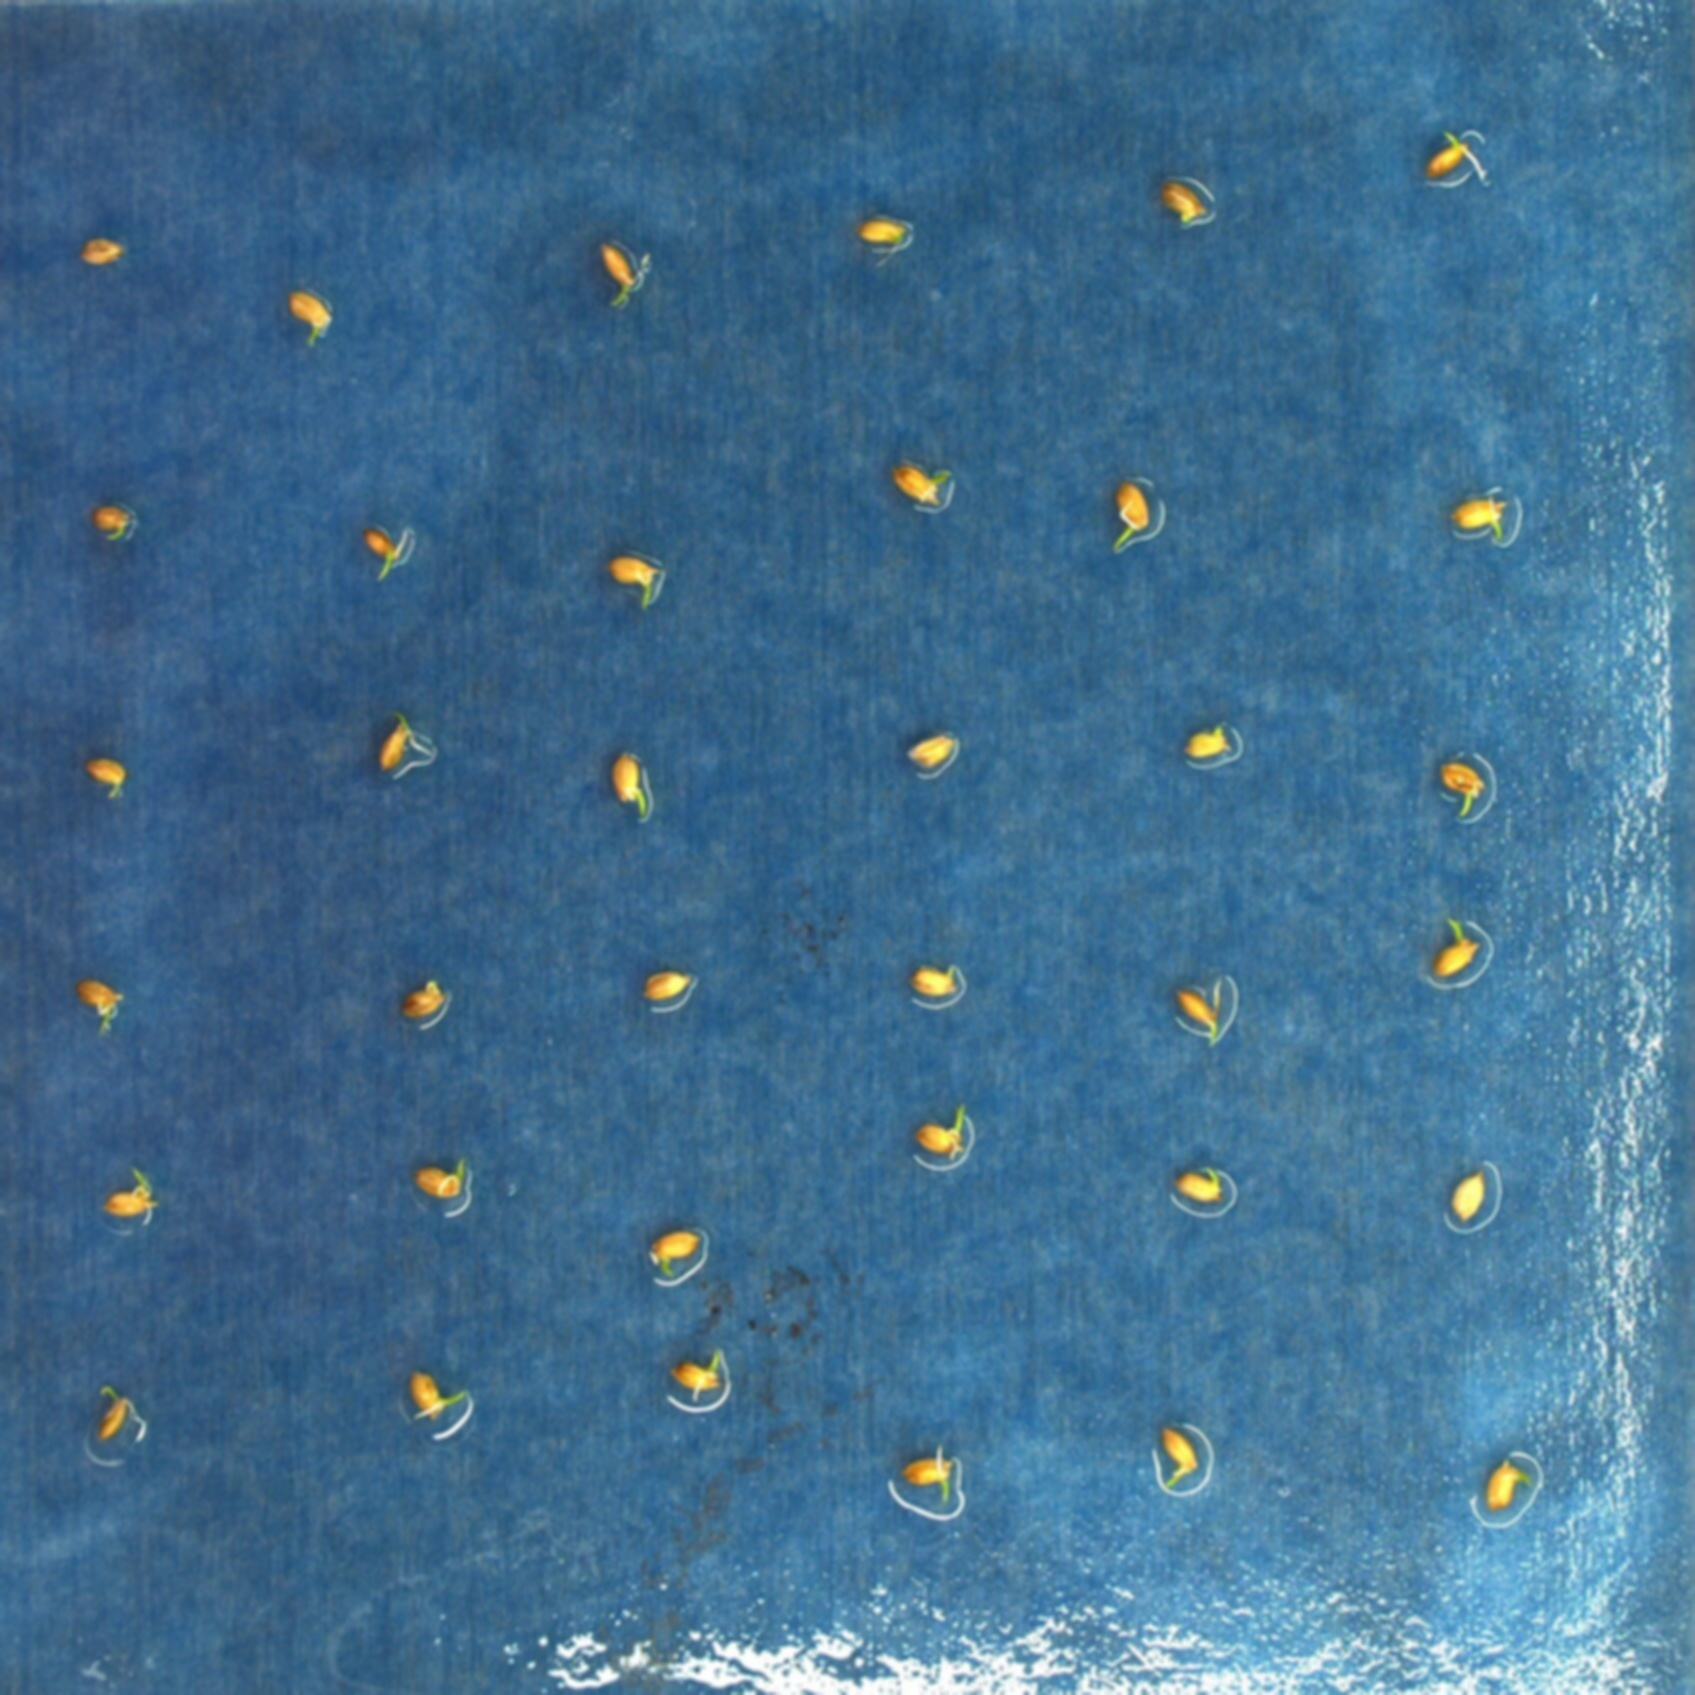not sprout: (598, 241, 646, 312), (888, 459, 953, 511), (73, 976, 126, 1035), (286, 289, 335, 349), (647, 1228, 702, 1276), (1156, 179, 1211, 224), (1172, 1166, 1225, 1205), (82, 754, 129, 798), (1180, 723, 1234, 761), (399, 979, 447, 1020), (1448, 1167, 1482, 1223), (908, 962, 958, 1000), (855, 216, 910, 248), (903, 734, 955, 768), (78, 236, 127, 267), (641, 972, 692, 1001)
sprout: (900, 1430, 955, 1506), (404, 1364, 469, 1426), (1426, 914, 1482, 984), (1173, 979, 1228, 1046), (99, 1163, 163, 1218), (669, 1344, 725, 1403), (914, 1104, 972, 1159), (605, 556, 664, 608), (92, 1381, 135, 1450), (1111, 481, 1152, 553), (1437, 759, 1485, 818), (1420, 129, 1476, 179), (1159, 1423, 1200, 1492), (1484, 1454, 1530, 1513), (1450, 497, 1509, 542), (608, 750, 647, 818), (408, 1159, 469, 1201), (376, 709, 414, 771), (362, 526, 402, 581), (92, 504, 133, 543)
